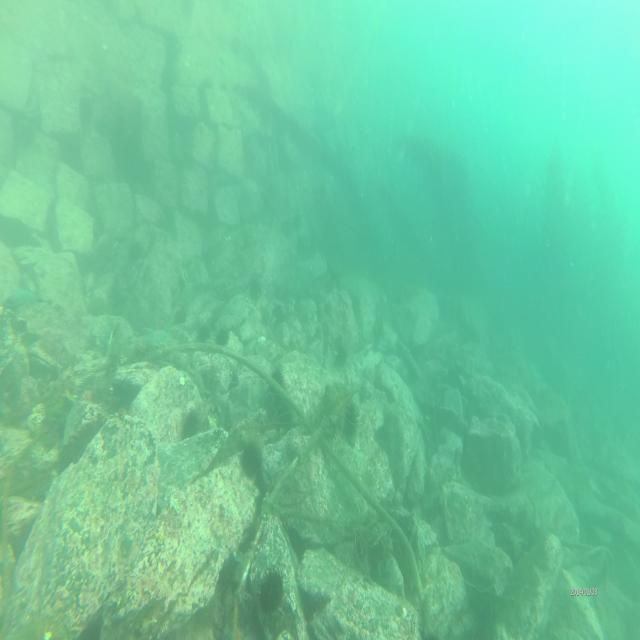echinus: (257, 567, 284, 612), (238, 438, 261, 478), (343, 398, 360, 437), (182, 407, 200, 442), (268, 364, 286, 398), (212, 328, 230, 349)
starfish: (146, 325, 168, 345), (78, 387, 94, 405)
